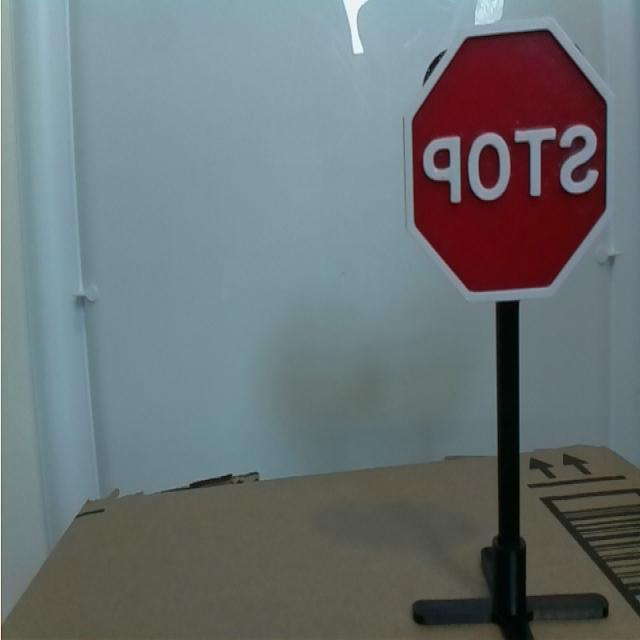sign_stop: (399, 13, 623, 318)
